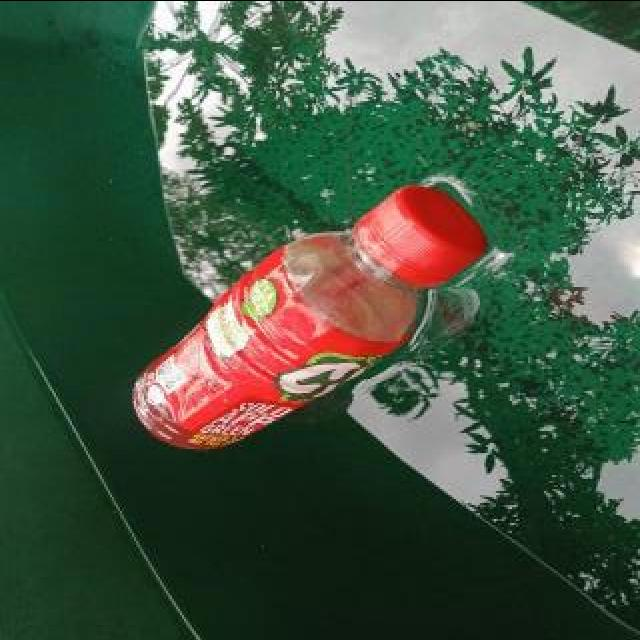Bottle: (121, 174, 494, 460)
